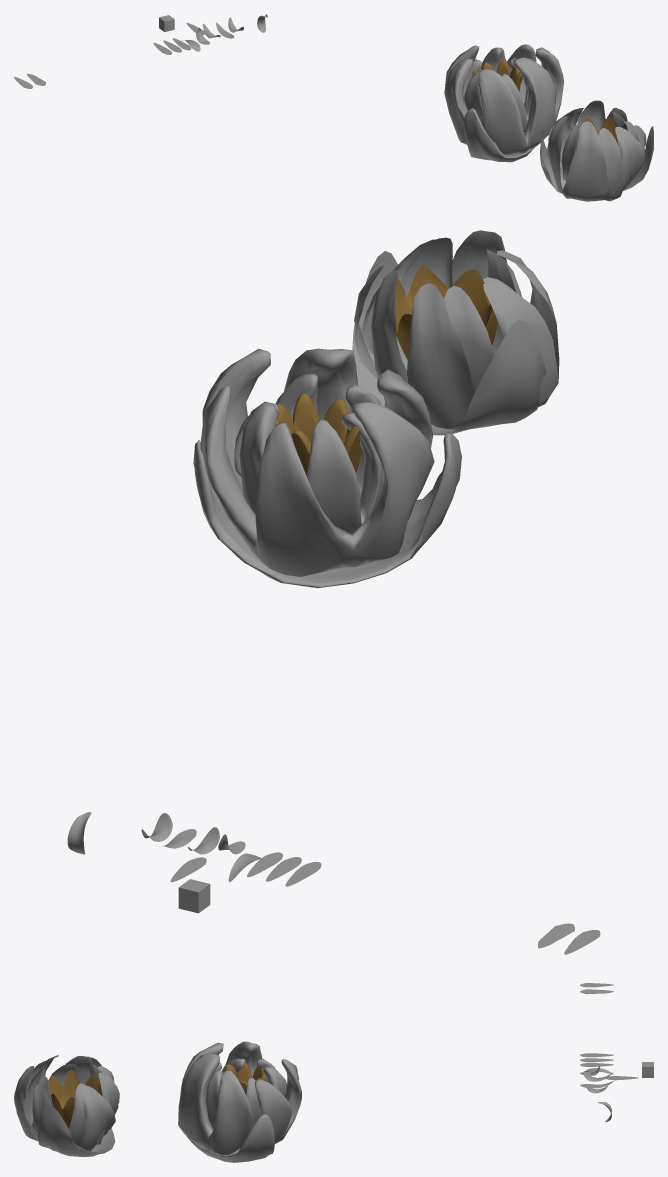
File: Lily_Flower_Plane.fbx
3 renders of one model, top to bottom at view 1: azimuth 30°, elevation 25°; view 2: azimuth 150°, elevation 25°; view 3: azimuth 270°, elevation 25°, orthographic. The views are drawn at different scales.
Parts seen in each view (by area): view 1: pPlane44, pPlane45; view 2: pPlane44, pPlane45; view 3: pPlane44, pPlane45.
Boxes of the visible parts, x1=… form: pPlane44: x1=444, y1=44, x2=563, y2=162; pPlane45: x1=540, y1=100, x2=653, y2=201; pPlane44: x1=193, y1=348, x2=461, y2=588; pPlane45: x1=352, y1=230, x2=559, y2=435; pPlane44: x1=178, y1=1041, x2=301, y2=1162; pPlane45: x1=14, y1=1055, x2=119, y2=1157.
Size of the model in its own units: 37.04 by 9.73 by 53.48.
